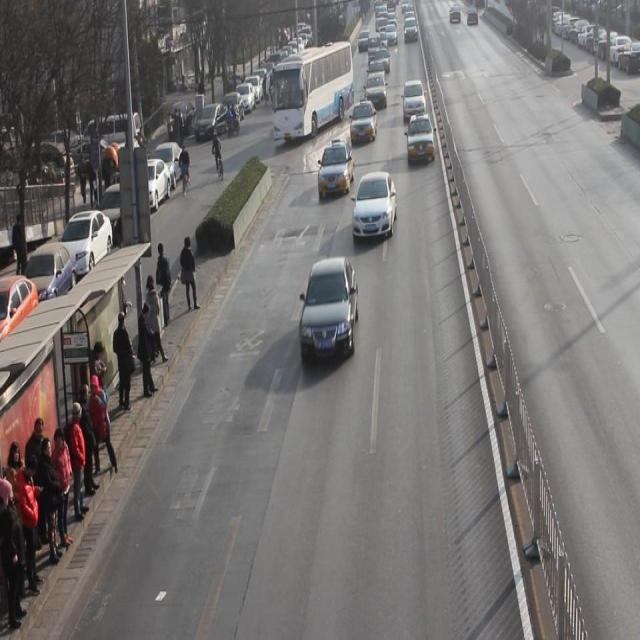car: (299, 258, 359, 363), (352, 173, 397, 241), (317, 142, 356, 197), (406, 116, 435, 164), (350, 100, 378, 144), (402, 78, 427, 122), (364, 73, 387, 108)
van: (272, 40, 354, 140)
